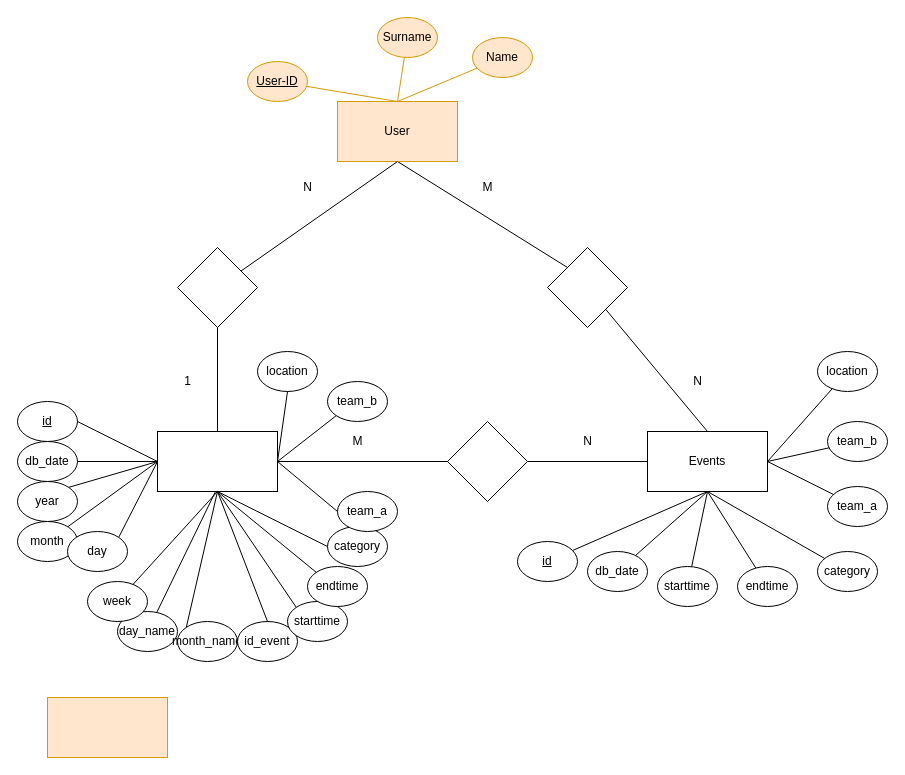
This 905x775 diagram has some shape labels left out. Here are the shapes that lost their labels. From the top down, the box of each, then its label:
(176, 246, 258, 328): has access to
(546, 246, 628, 328): creates
(156, 430, 278, 492): Calendar
(446, 420, 528, 502): safed into
(46, 696, 168, 758): not implemented
